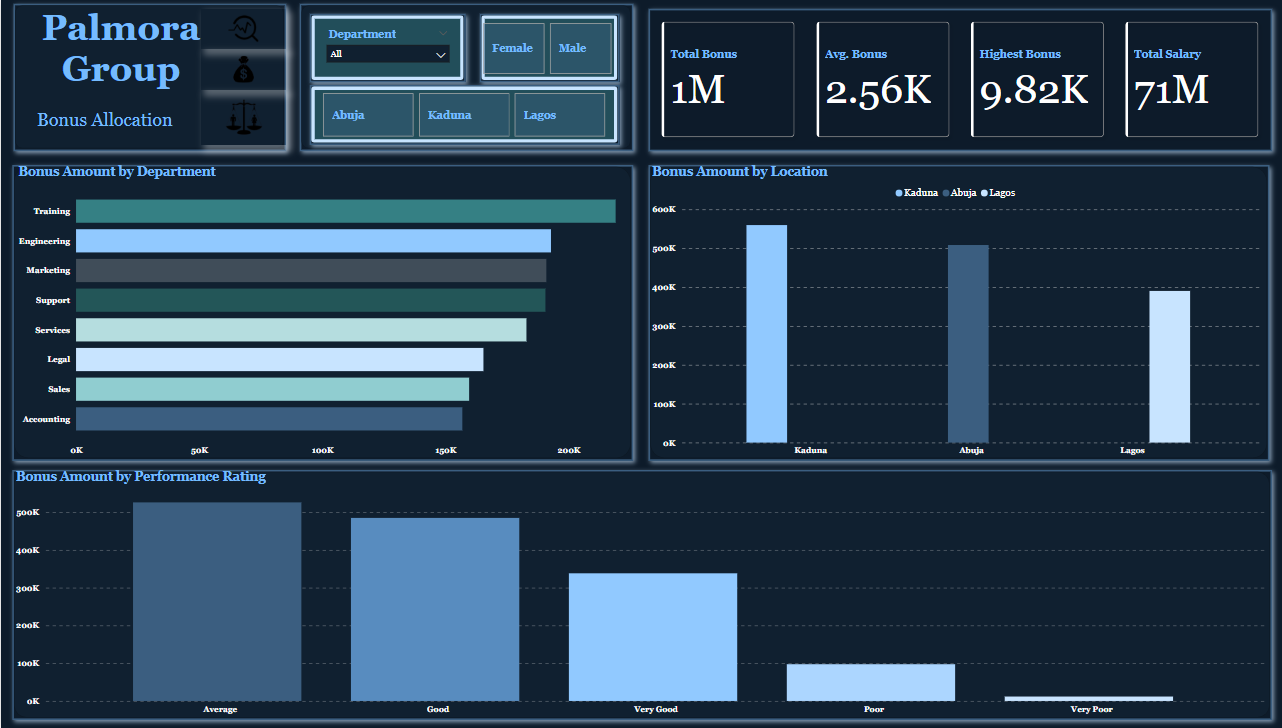

What the dashboard file says about the page in this screenshot:
{"tool":"powerbi","page":{"name":"Page 6","canvas":[1900,1080],"ordinal":5},"visuals":[{"type":"shape","box":[16.7,696.3,1866.7,370.4],"z":0},{"type":"shape","box":[16,244,920,438],"z":1000},{"type":"shape","box":[960,244,920,438],"z":2000},{"type":"shape","box":[18,6,404,218],"z":3000},{"type":"shape","box":[442,6,494,218],"z":4000},{"type":"cardVisual","fields":{"Data":["Bonus Rules.Total Bonus","Bonus Rules.Avg bonus","Bonus Rules.Highest Bonus","Sum(Palmoria Group emp-data (2).Total Salary)"]},"box":[950,13,933.3,211.1],"z":5000},{"type":"clusteredColumnChart","title":"Bonus Amount by Performance Rating","fields":{"Category":["Palmoria Group emp-data (2).Rating"],"Y":["Sum(Palmoria Group emp-data (2).Bonus Amount)"]},"box":[20.4,696.3,1859.3,370.4],"z":6000},{"type":"clusteredBarChart","fields":{"Category":["Palmoria Group emp-data (2).Department"],"Y":["Sum(Palmoria Group emp-data (2).Bonus Amount)"]},"box":[20.4,244.4,916.7,438.9],"z":7000},{"type":"clusteredColumnChart","title":" Bonus Amount by Location ","fields":{"Y":["Sum(Palmoria Group emp-data (2).Bonus Amount)"],"Category":["Palmoria Group emp-data (2).Location"],"Series":["Palmoria Group emp-data (2).Location"]},"box":[959.3,244.4,913,438.9],"z":8000},{"type":"textbox","box":[20.4,5.6,314.8,151.9],"z":9000},{"type":"textbox","box":[35.2,157.4,237,51.9],"z":10000},{"type":"shape","box":[709.3,20.4,207.4,101.9],"z":11000},{"type":"shape","box":[457.4,20.4,231.5,101.9],"z":12000},{"type":"shape","box":[457.4,125.9,459.3,88.9],"z":13000},{"type":"advancedSlicerVisual","fields":{"Values":["Palmoria Group emp-data (2).Location"]},"box":[472.2,133.3,429.6,74.1],"z":14000},{"type":"slicer","fields":{"Values":["Palmoria Group emp-data (2).Department"]},"box":[472.2,37,201.9,72.2],"z":15000},{"type":"advancedSlicerVisual","fields":{"Values":["Palmoria Group emp-data (2).Gender"]},"box":[709.3,29.6,201.9,85.2],"z":16000},{"type":"image","box":[296.3,13,125.9,59.3],"z":17000},{"type":"image","box":[296.3,133.3,125.9,81.5],"z":18000},{"type":"image","box":[296.3,72.2,125.9,61.1],"z":19000}]}

Visuals, with their boxes in screenshot pixels (x1, y1, x2, y2), scaled from the page's 1900x1080 canvas onto the 1282x728 screenshot:
shape: x1=11 y1=469 x2=1271 y2=719
shape: x1=11 y1=164 x2=632 y2=460
shape: x1=648 y1=164 x2=1269 y2=460
shape: x1=12 y1=4 x2=285 y2=151
shape: x1=298 y1=4 x2=632 y2=151
cardVisual - Bonus Rules.Total Bonus x Bonus Rules.Avg bonus: x1=641 y1=9 x2=1271 y2=151
"Bonus Amount by Performance Rating" clusteredColumnChart: x1=14 y1=469 x2=1268 y2=719
clusteredBarChart - Palmoria Group emp-data (2).Department x Sum(Palmoria Group emp-data (2).Bonus Amount): x1=14 y1=165 x2=632 y2=461
" Bonus Amount by Location " clusteredColumnChart: x1=647 y1=165 x2=1263 y2=461
textbox: x1=14 y1=4 x2=226 y2=106
textbox: x1=24 y1=106 x2=184 y2=141
shape: x1=479 y1=14 x2=619 y2=82
shape: x1=309 y1=14 x2=465 y2=82
shape: x1=309 y1=85 x2=619 y2=145
advancedSlicerVisual - Palmoria Group emp-data (2).Location: x1=319 y1=90 x2=608 y2=140
slicer - Palmoria Group emp-data (2).Department: x1=319 y1=25 x2=455 y2=74
advancedSlicerVisual - Palmoria Group emp-data (2).Gender: x1=479 y1=20 x2=615 y2=77
image: x1=200 y1=9 x2=285 y2=49
image: x1=200 y1=90 x2=285 y2=145
image: x1=200 y1=49 x2=285 y2=90
